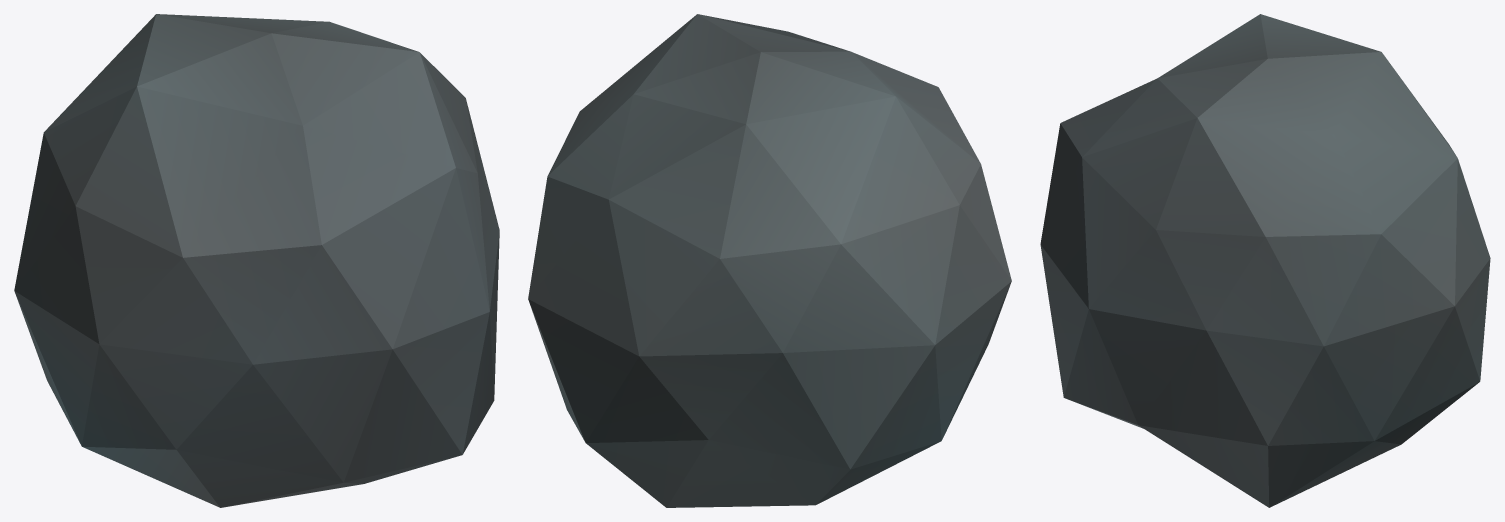
The model's file is PlanetExtensions_Moon01.fbx.
3 views of the same model, side by side, from view 1: azimuth 30°, elevation 25°; view 2: azimuth 150°, elevation 25°; view 3: azimuth 270°, elevation 25° (orthographic). The views are drawn at different scales.
Visible parts, largest first — view 1: Moon01; view 2: Moon01; view 3: Moon01.
Part boxes in pixels (x1,y1,x2,y2): Moon01: [14, 14, 499, 507]; Moon01: [528, 14, 1011, 507]; Moon01: [1040, 14, 1490, 507].
Size of the model in its own units: 7.63 by 7.63 by 7.86.
